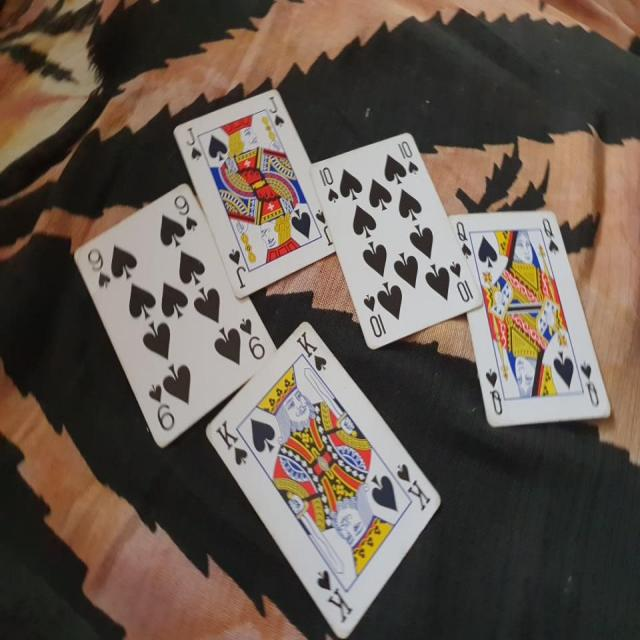10 Spades: (308, 125, 481, 362)
9 Spades: (60, 180, 282, 460)
J Spades: (170, 82, 347, 298)
K Spades: (207, 310, 436, 639)
Q Spades: (444, 206, 617, 446)
